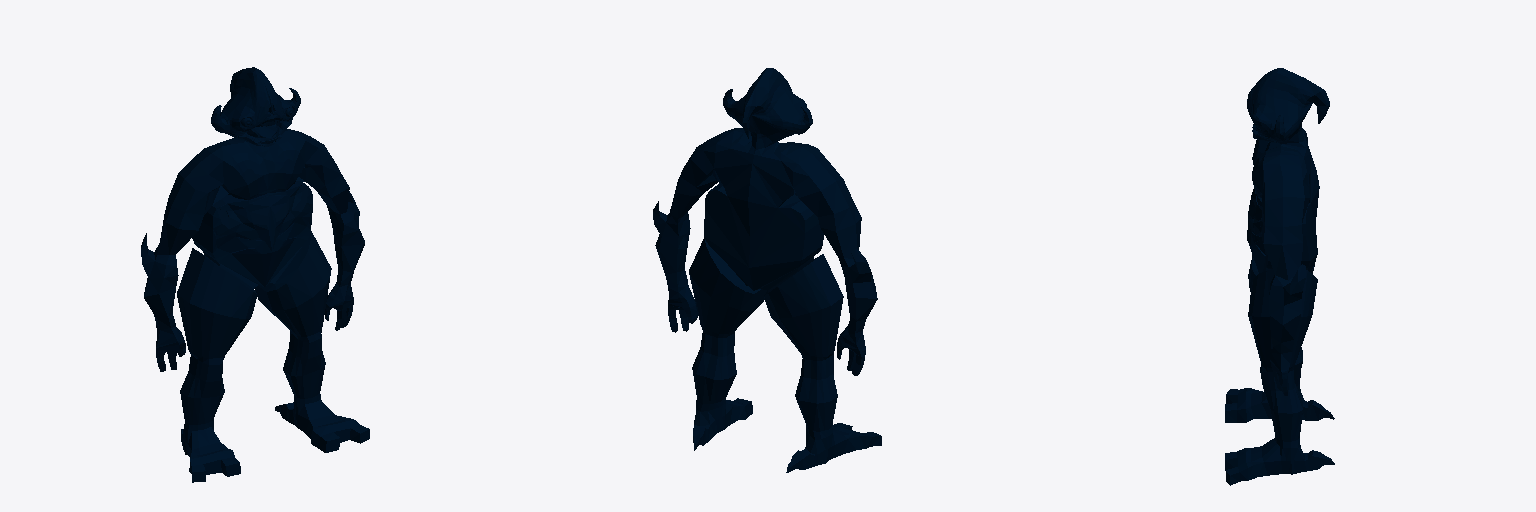
The model's file is escarabajo.obj.
3 renders of one model, left to right at view 1: azimuth 30°, elevation 25°; view 2: azimuth 150°, elevation 25°; view 3: azimuth 270°, elevation 25°, orthographic.
Parts seen in each view (by area): view 1: escrabajo_escarabajo; view 2: escrabajo_escarabajo; view 3: escrabajo_escarabajo.
Part boxes in pixels (x1,y1,x2,y2): escrabajo_escarabajo: (141,67,369,482); escrabajo_escarabajo: (653,68,881,472); escrabajo_escarabajo: (1225,68,1334,485).
Size of the model in its own units: 0.5631 by 0.9088 by 0.2409.